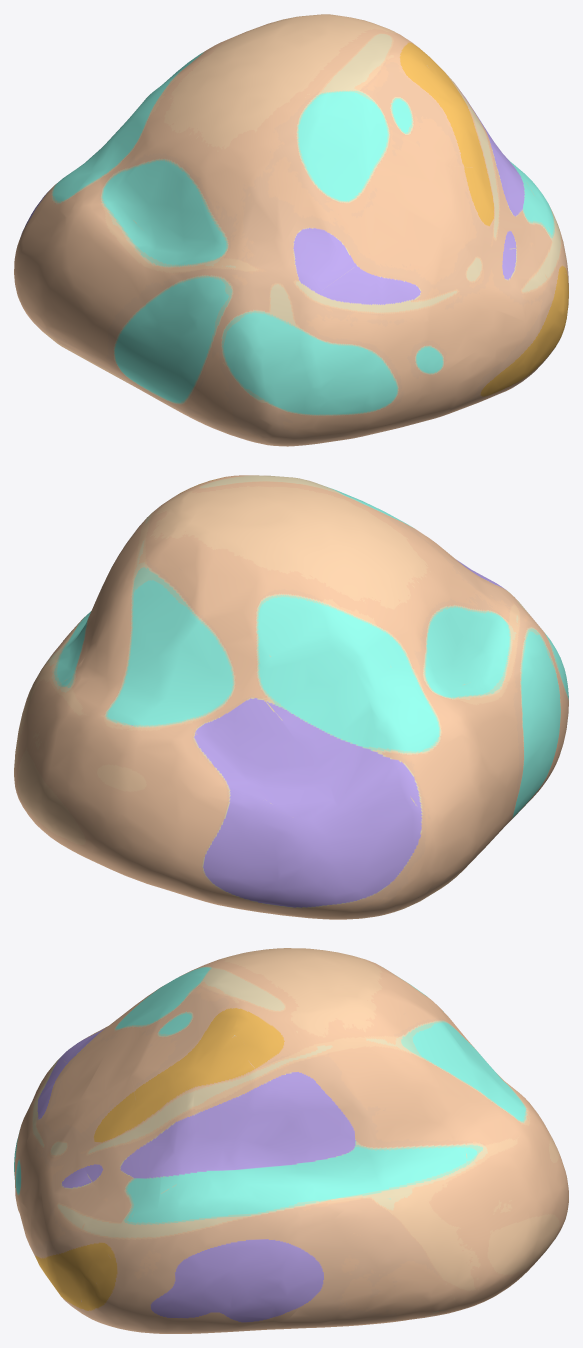
The model's file is rock1.glb.
3 views of the same model, one above another, from view 1: azimuth 30°, elevation 25°; view 2: azimuth 150°, elevation 25°; view 3: azimuth 270°, elevation 25° (orthographic). The views are drawn at different scales.
Visible parts, largest first — view 1: Mesh_0; view 2: Mesh_0; view 3: Mesh_0.
Boxes of the visible parts, <box> form: Mesh_0: <box>14,14,568,446</box>; Mesh_0: <box>14,475,568,919</box>; Mesh_0: <box>14,948,568,1333</box>.
Bounding box in the file's own units: 1.72 × 1.13 × 1.9.
1 material, 1 textured.
